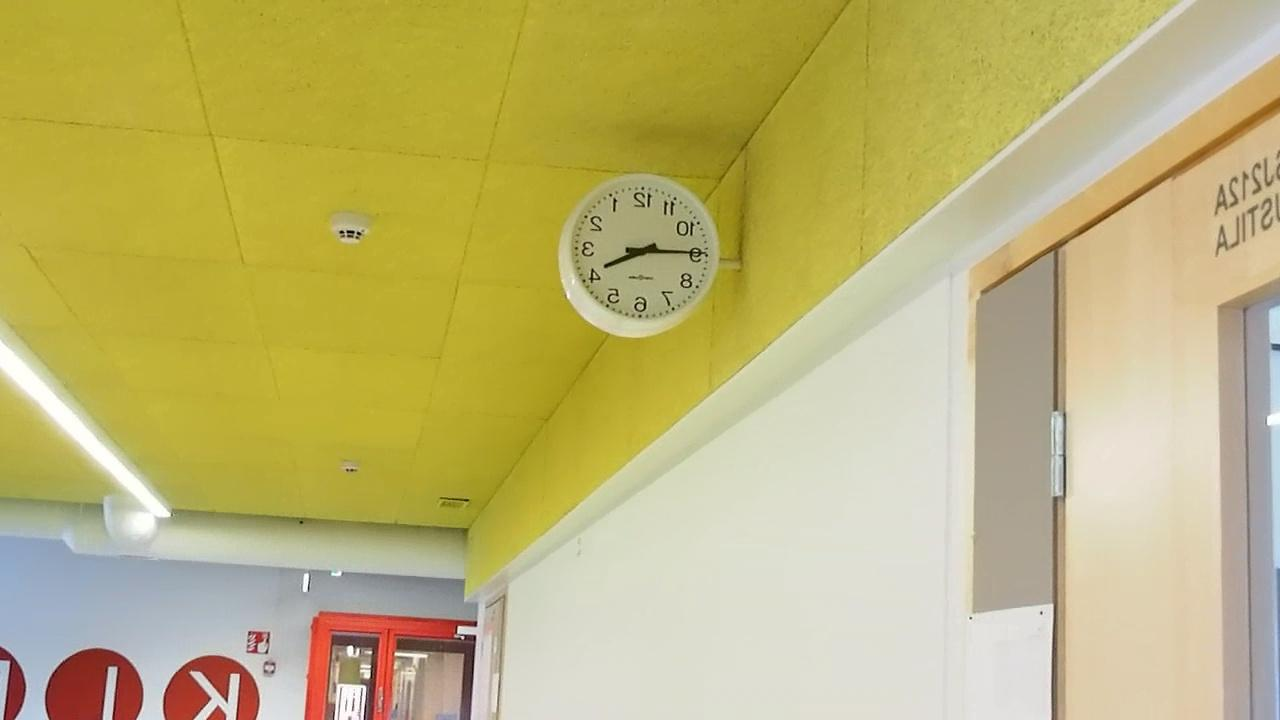clock: (557, 174, 722, 340)
